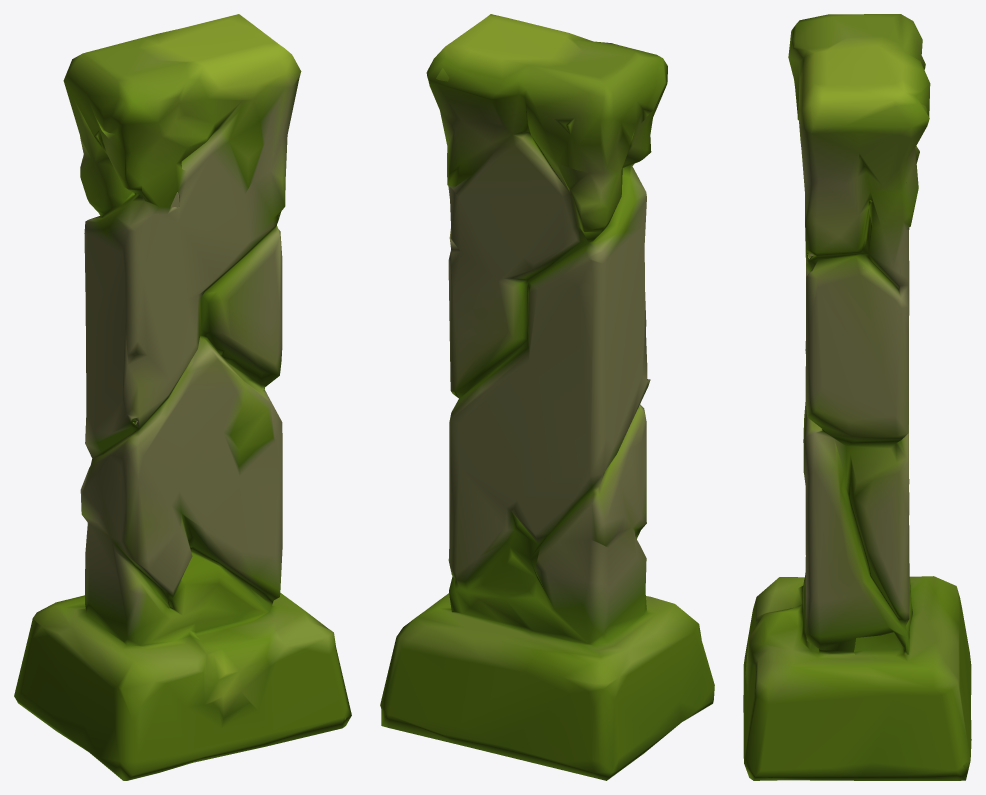
The model's file is gen3d-mossy-ruin-pillar-lod0.glb.
The picture shows the model from 3 angles, left to right: view 1: azimuth 30°, elevation 25°; view 2: azimuth 150°, elevation 25°; view 3: azimuth 270°, elevation 25°; orthographic projection.
Visible parts, largest first — view 1: part_0; view 2: part_0; view 3: part_0.
Part boxes in pixels (<box>): part_0: <box>14,14,351,780</box>; part_0: <box>380,14,714,780</box>; part_0: <box>743,14,971,780</box>.
Size of the model in its own units: 0.3705 by 0.9999 by 0.3067.
